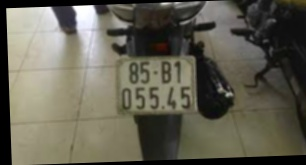Bien-so: (109, 50, 200, 122)
